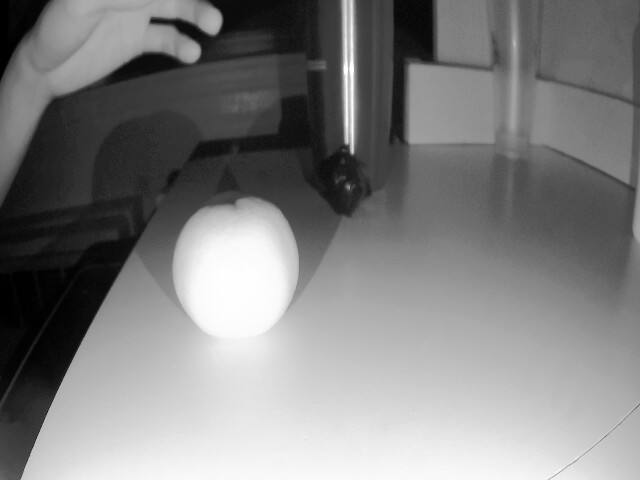black: (317, 153, 373, 214)
